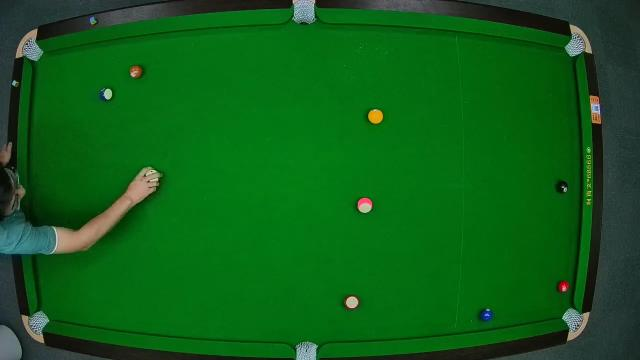bag1: (19, 36, 45, 64)
bag2: (292, 0, 316, 26)
bag3: (563, 30, 589, 57)
bag4: (25, 309, 51, 339)
bag5: (294, 340, 318, 360)
bag6: (560, 306, 586, 334)
ball1: (368, 108, 384, 124)
ball10: (99, 87, 115, 103)
ball11: (344, 294, 361, 310)
ball12: (357, 196, 373, 214)
ball2: (479, 306, 495, 324)
ball3: (556, 278, 572, 294)
ball7: (128, 64, 146, 80)
ball8: (554, 180, 570, 197)
